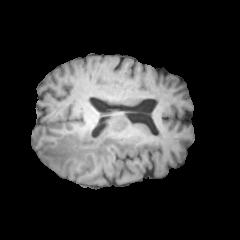glioma: (41, 114, 146, 174)
